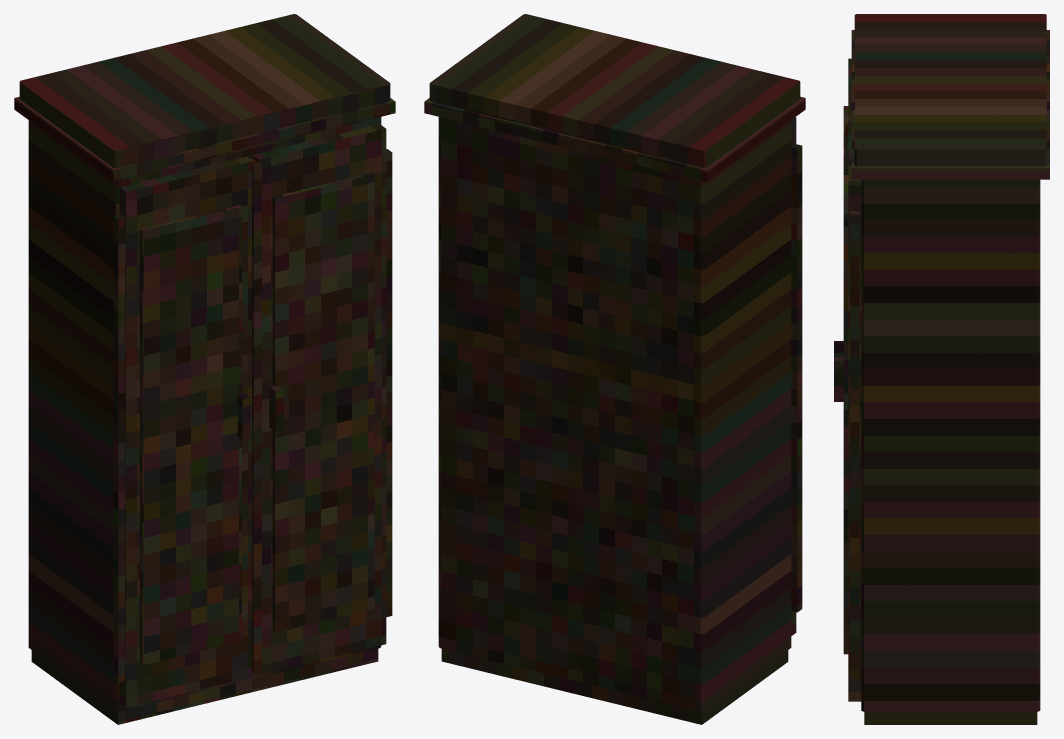
File: Cupboard.glb
3 views of the same model, side by side, from view 1: azimuth 30°, elevation 25°; view 2: azimuth 150°, elevation 25°; view 3: azimuth 270°, elevation 25° (orthographic).
Parts seen in each view (by area): view 1: Cupboard; view 2: Cupboard; view 3: Cupboard.
Part boxes in pixels (left/top/right/bottom): Cupboard: left=14, top=14, right=395, bottom=724; Cupboard: left=424, top=14, right=805, bottom=724; Cupboard: left=834, top=14, right=1049, bottom=724.
Size of the model in its own units: 1.02 by 2 by 0.675.
Materials: 1 (1 with a texture image).
